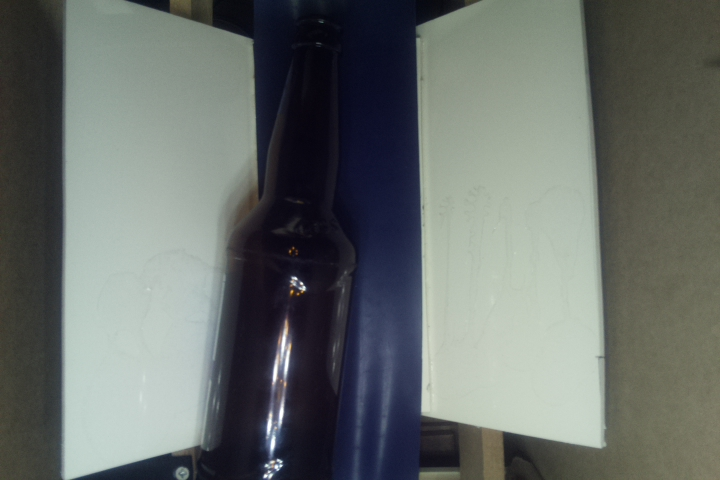makju: (198, 8, 361, 480)
